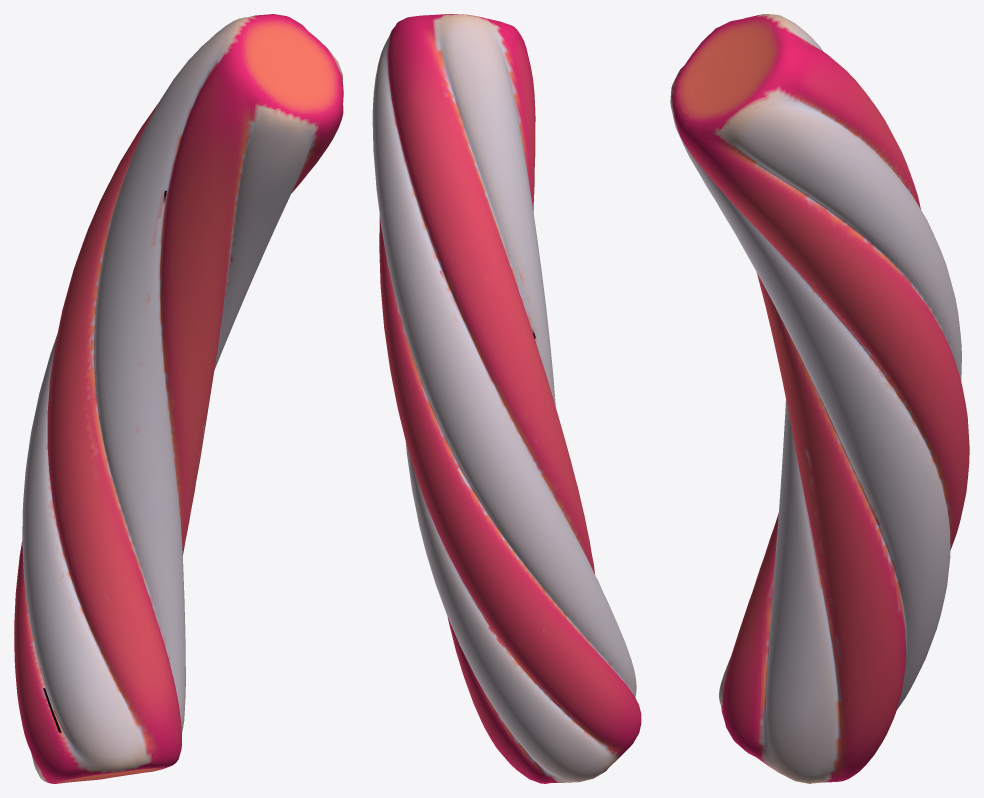
File: twister_015.obj
3 views of the same model, side by side, from view 1: azimuth 30°, elevation 25°; view 2: azimuth 150°, elevation 25°; view 3: azimuth 270°, elevation 25° (orthographic). The views are drawn at different scales.
Parts seen in each view (by area): view 1: twister.015; view 2: twister.015; view 3: twister.015.
Part boxes in pixels (bbox=[...]): twister.015: bbox=[14, 14, 343, 783]; twister.015: bbox=[372, 14, 641, 783]; twister.015: bbox=[670, 14, 969, 783].
Bounding box in the file's own units: 0.9122 × 2.35 × 0.7782.
1 material, 1 textured.
